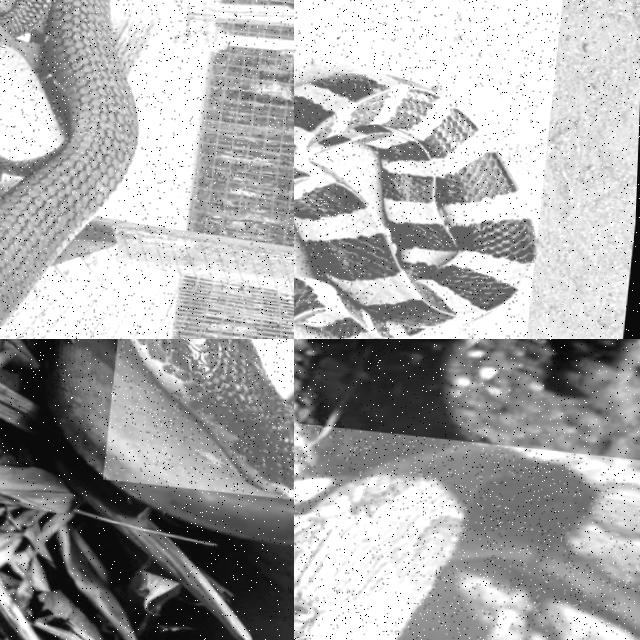Bungarus fasciatus: (294, 71, 535, 338)
Daboia siamensis: (294, 446, 639, 639)
Naja siamensis: (131, 339, 293, 495)
Ophiophagus hannah: (0, 0, 160, 325)
